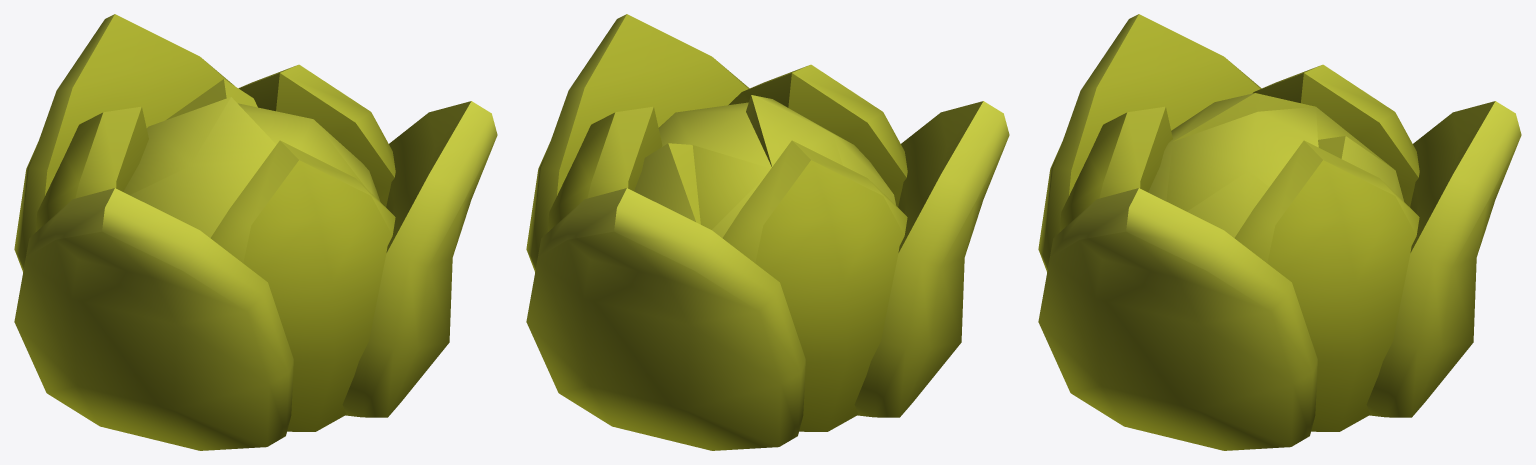
Rendered from ing_lettuce.glb.
3 renders of one model, left to right at view 1: azimuth 30°, elevation 25°; view 2: azimuth 150°, elevation 25°; view 3: azimuth 270°, elevation 25°, orthographic.
Parts seen in each view (by area): view 1: food_ingredient_lettuce_Icosphere.007; view 2: food_ingredient_lettuce_Icosphere.007; view 3: food_ingredient_lettuce_Icosphere.007.
Boxes of the visible parts, x1=… form: food_ingredient_lettuce_Icosphere.007: x1=14, y1=14, x2=497, y2=450; food_ingredient_lettuce_Icosphere.007: x1=526, y1=14, x2=1009, y2=450; food_ingredient_lettuce_Icosphere.007: x1=1038, y1=14, x2=1521, y2=450.
Bounding box in the file's own units: 1.1 × 0.8205 × 1.13.
Materials: 1 (1 with a texture image).
